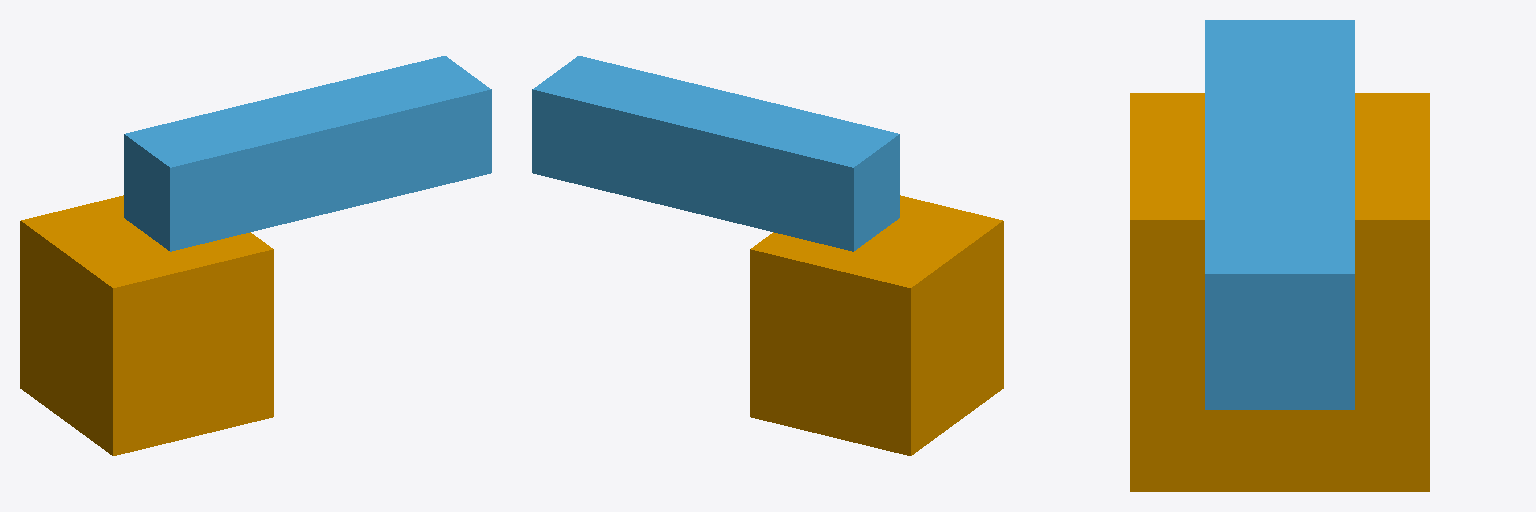
The robot description file, URDF, robot "mini":
<?xml version="1.0"?>
<robot name="mini">
  <link name="base_link">
    <inertial><mass value="0.5"/><inertia ixx="0.001" iyy="0.001" izz="0.001" ixy="0" ixz="0" iyz="0"/></inertial>
    <visual><origin xyz="-0.02 -0.02 0" rpy="0 0 0"/><geometry><mesh filename="meshes/box.stl"/></geometry></visual>
  </link>
  <link name="arm_link">
    <inertial><mass value="0.1"/><inertia ixx="0.0001" iyy="0.0001" izz="0.0001" ixy="0" ixz="0" iyz="0"/></inertial>
    <visual><origin xyz="0 -0.01 0"/><geometry><mesh filename="meshes/box.stl" scale="2 0.5 0.5"/></geometry></visual>
  </link>
  <joint name="pan" type="revolute">
    <parent link="base_link"/><child link="arm_link"/><origin xyz="0 0 0.04"/><axis xyz="0 0 1"/>
    <limit lower="-1.5" upper="1.5" effort="1" velocity="2"/>
  </joint>
</robot>

--- What the picture shows (computed from the rendered views, not written in the file) ---
The picture shows the robot from 3 angles, left to right: view 1: azimuth 30°, elevation 25°; view 2: azimuth 150°, elevation 25°; view 3: azimuth 270°, elevation 25°; orthographic projection.
Robot: mini — 2 links, 1 joints (1 revolute); root link base_link; default pose: all joints at 0.
Visible links, largest first — view 1: base_link, arm_link; view 2: base_link, arm_link; view 3: base_link, arm_link.
Boxes of the visible links, bbox=[...] form: base_link: bbox=[20, 195, 273, 455]; arm_link: bbox=[124, 56, 491, 251]; base_link: bbox=[750, 195, 1003, 455]; arm_link: bbox=[532, 56, 899, 251]; base_link: bbox=[1130, 93, 1429, 491]; arm_link: bbox=[1205, 20, 1354, 409].
Bounding box of the posed robot: 0.1 × 0.04 × 0.06 m (x, y, z).
2 mesh visuals loaded from 1 distinct referenced files (1 ASCII STL).
